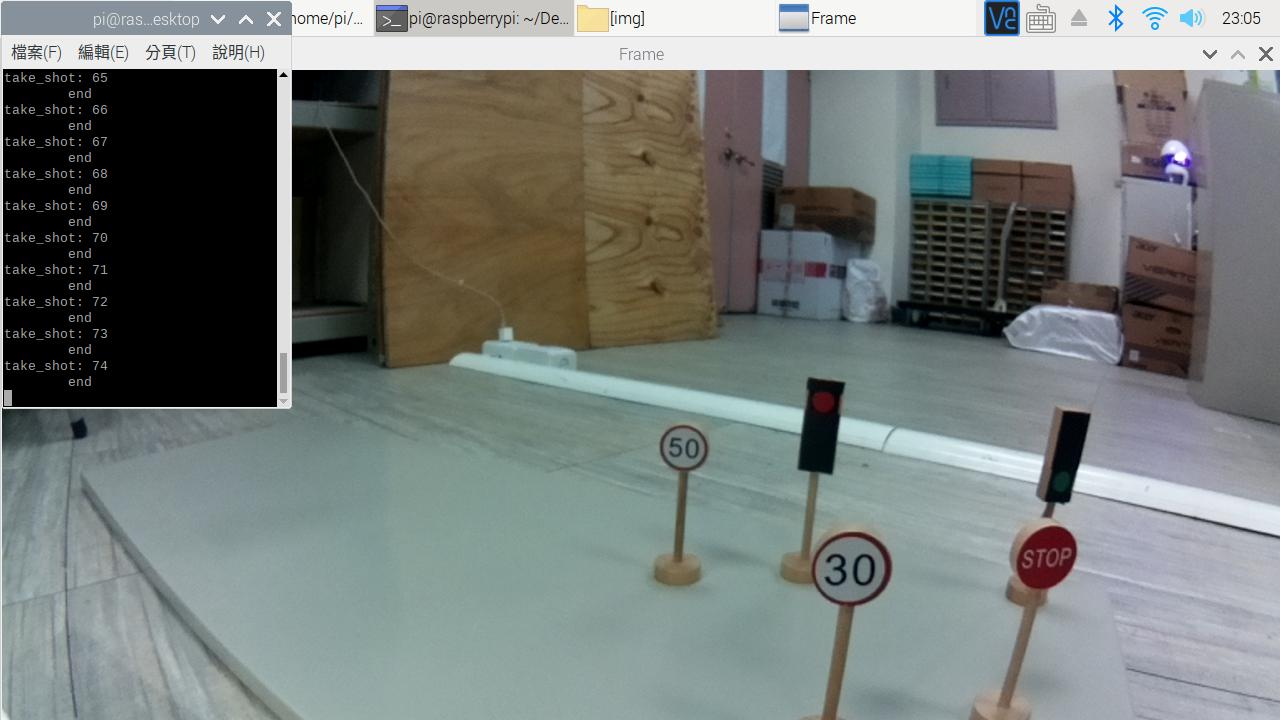Green: (1038, 402, 1091, 506)
Red: (796, 369, 846, 479)
Speed30: (804, 523, 903, 607)
Speed50: (649, 420, 718, 475)
Stop: (1000, 515, 1087, 595)
